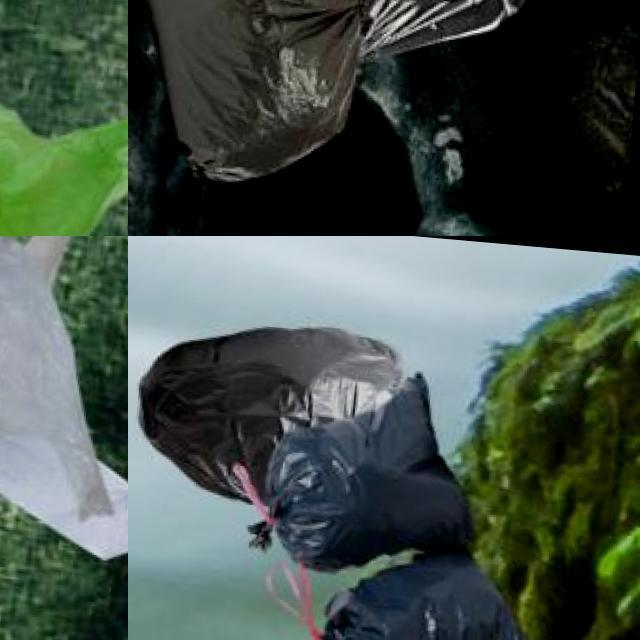waste: (128, 310, 407, 508), (256, 367, 486, 572), (128, 0, 381, 185), (0, 236, 128, 569), (0, 0, 128, 236), (0, 236, 84, 536), (312, 537, 547, 640), (328, 0, 640, 68)
